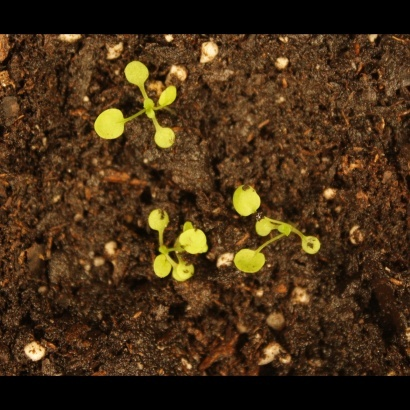leaf: (86, 108, 131, 147), (229, 245, 270, 276), (231, 182, 264, 218), (178, 223, 211, 258), (121, 58, 154, 90), (148, 125, 183, 152), (149, 249, 174, 286), (146, 208, 175, 237), (158, 83, 187, 109), (299, 233, 329, 257), (137, 96, 163, 123), (171, 260, 198, 286), (254, 216, 277, 239), (274, 220, 297, 243)
